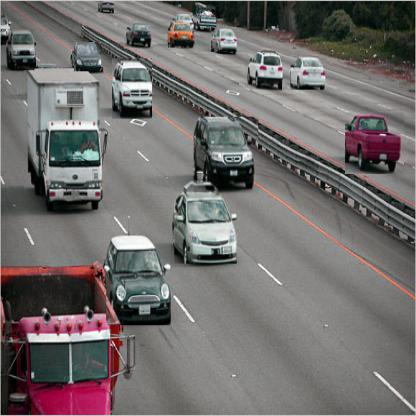car: (107, 237, 173, 328), (176, 177, 239, 266), (195, 118, 260, 196), (346, 113, 406, 176), (113, 59, 154, 121), (246, 47, 284, 98), (292, 57, 328, 92), (7, 30, 36, 72), (75, 43, 103, 74), (125, 24, 155, 51), (169, 24, 197, 50), (212, 28, 238, 54)
truck: (25, 68, 107, 212)
